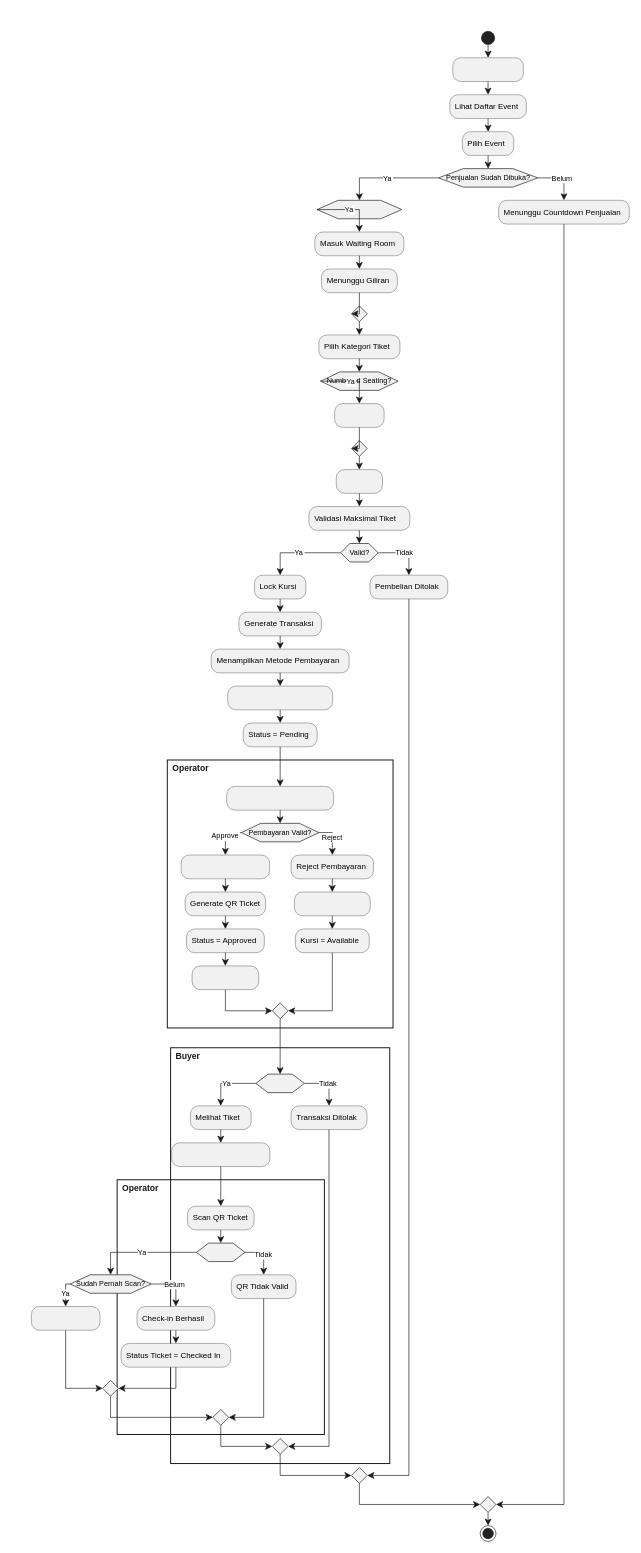
This 641x1553 diagram has some shape labels left out. Each missing label, with the centre of its shape:
Approve Pembayaran: the point at 225,867
Approved?: the point at 279,1083
Checkout: the point at 359,481
Datang ke Lokasi Event: the point at 220,1154
Kursi = Booked: the point at 225,977
Masuk ke Home: the point at 487,69
Melihat Bukti Pembayaran: the point at 279,798
Pilih Kursi: the point at 359,415
QR Valid?: the point at 220,1252
Status = Rejected: the point at 332,904
Tolak Check-in: the point at 65,1318
Upload Bukti Pembayaran: the point at 280,698
Waiting Room Aktif?: the point at 359,209
